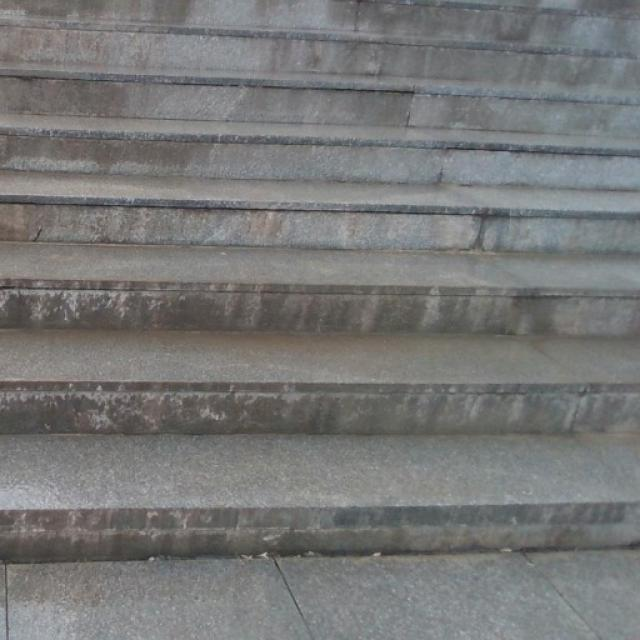Stairs: (0, 0, 639, 564)
